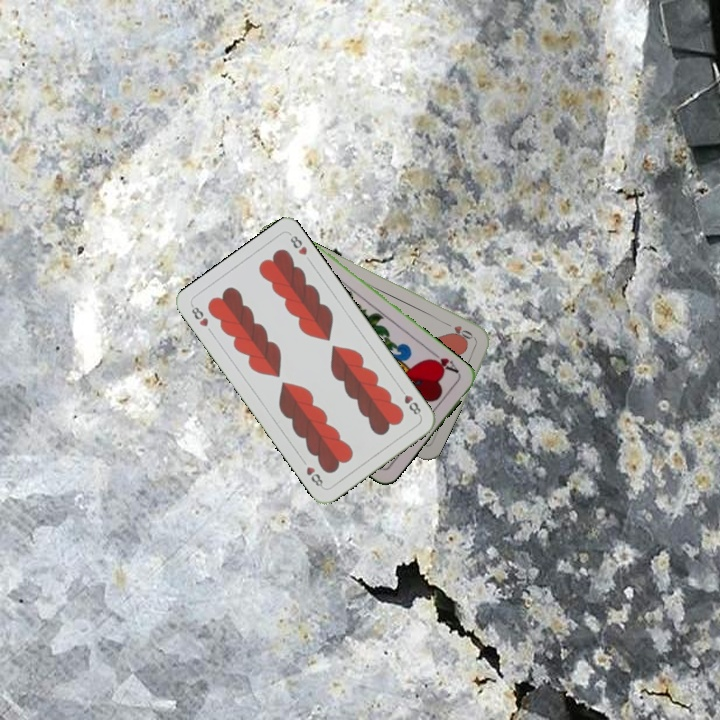H8: (395, 384, 424, 419), (187, 301, 211, 329)
HA: (425, 347, 462, 377)
HO: (440, 318, 478, 343)
